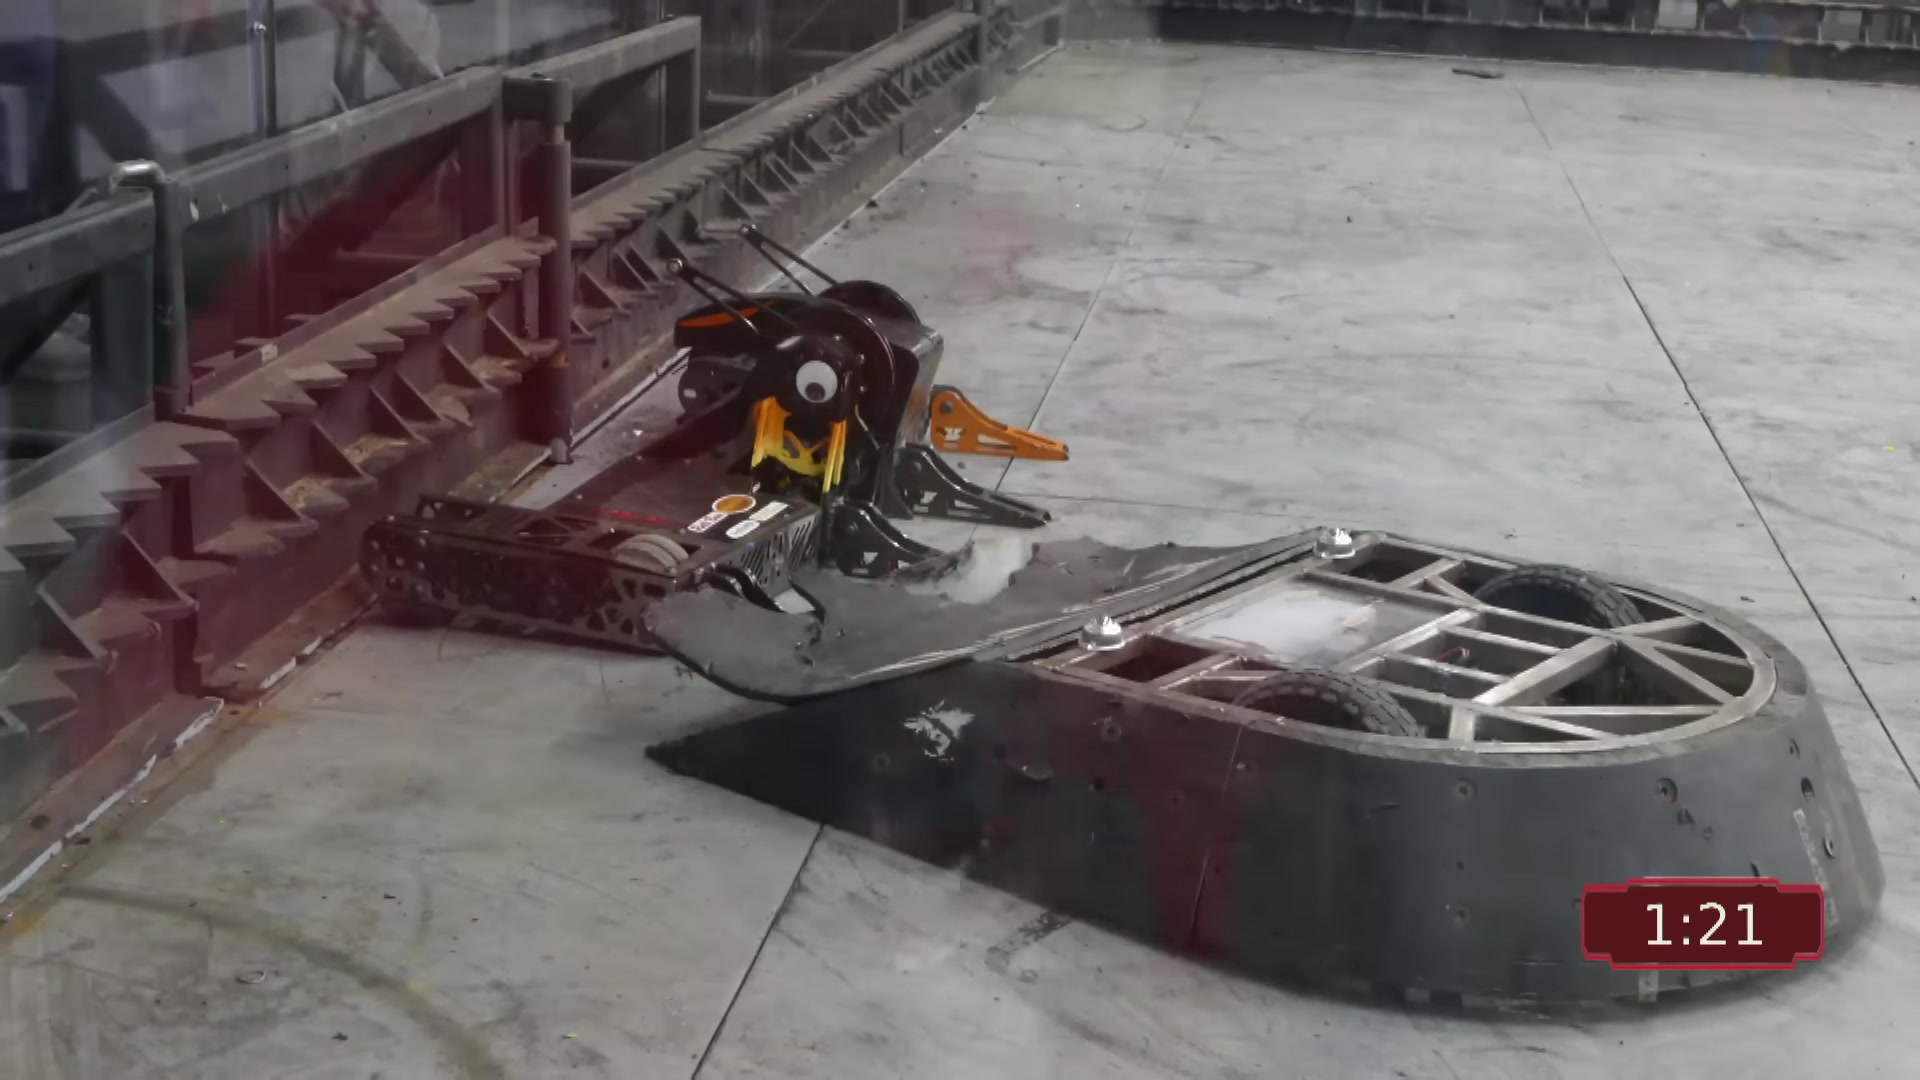combatbot: (651, 521, 1891, 1040), (356, 227, 1069, 642)
debris: (1452, 61, 1505, 79)
